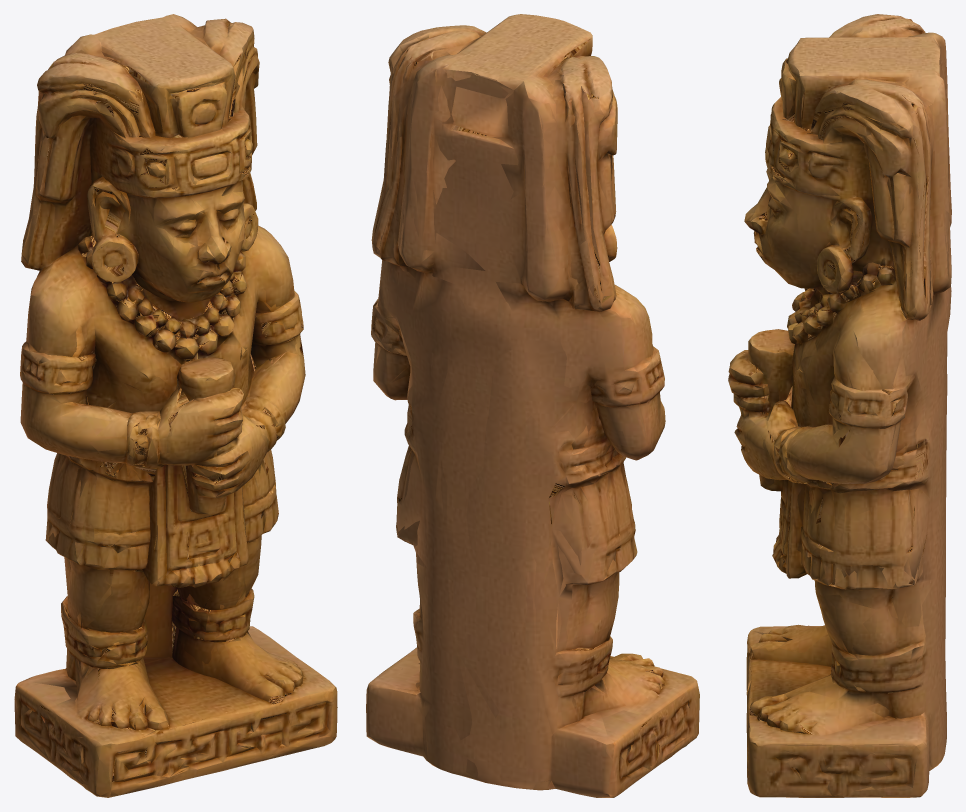
The model's file is jt_statue_large.glb.
3 views of the same model, side by side, from view 1: azimuth 30°, elevation 25°; view 2: azimuth 150°, elevation 25°; view 3: azimuth 270°, elevation 25° (orthographic). The views are drawn at different scales.
Visible parts, largest first — view 1: turn, mesh_lod; view 2: turn, mesh_lod; view 3: turn, mesh_lod.
Part boxes in pixels (x1,y1,x2,y2): turn: (14,14,337,797); mesh_lod: (15,18,335,797); turn: (366,14,699,797); mesh_lod: (367,14,699,796); turn: (728,14,951,797); mesh_lod: (730,16,951,797).
Bounding box in the file's own units: 1.66 × 4 × 1.18.
1 material, 1 textured.
